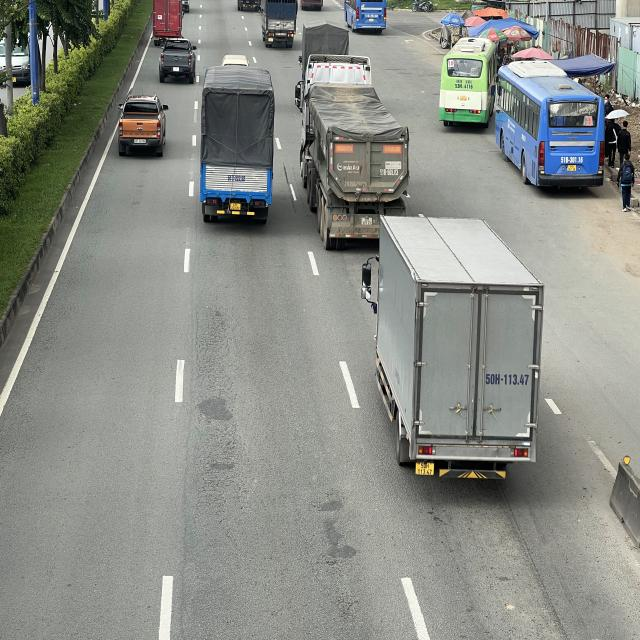car: (118, 97, 170, 159), (156, 36, 199, 82)
coach: (489, 56, 606, 192), (439, 35, 502, 130), (344, 1, 388, 36)
container: (297, 55, 413, 252)
truck: (361, 213, 546, 484), (199, 66, 278, 225), (260, 0, 299, 48), (152, 0, 184, 42)
